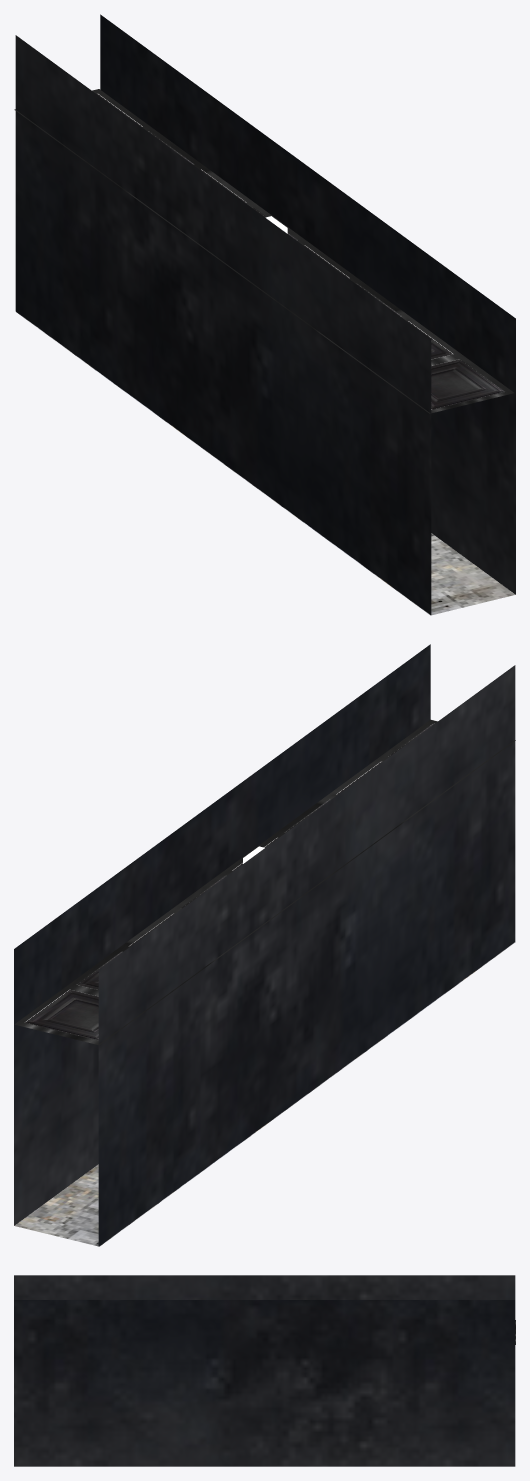
File: infin-hallwy3.glb
3 views of the same model, one above another, from view 1: azimuth 30°, elevation 25°; view 2: azimuth 150°, elevation 25°; view 3: azimuth 270°, elevation 25° (orthographic). The views are drawn at different scales.
Parts seen in each view (by area): view 1: inf_hallway_wls, inf_hallway_floor.001, inf_hallway_ceiling_bars, inf_hallway_ceiling_tile; view 2: inf_hallway_wls, inf_hallway_floor.001, inf_hallway_ceiling_bars, inf_hallway_ceiling_tile; view 3: inf_hallway_wls.
Part boxes in pixels (x1,y1,x2,y2): inf_hallway_wls: (15, 14, 515, 614); inf_hallway_floor.001: (16, 312, 515, 615); inf_hallway_ceiling_bars: (14, 89, 513, 413); inf_hallway_ceiling_tile: (97, 93, 504, 409); inf_hallway_wls: (14, 644, 515, 1246); inf_hallway_floor.001: (14, 942, 515, 1246); inf_hallway_ceiling_bars: (14, 719, 515, 1045); inf_hallway_ceiling_tile: (25, 723, 433, 1040); inf_hallway_wls: (14, 1275, 515, 1466).
Size of what is drawn, in the model's own units: 3.88 by 11.94 by 32.59.
Materials: 5 (4 with a texture image).
